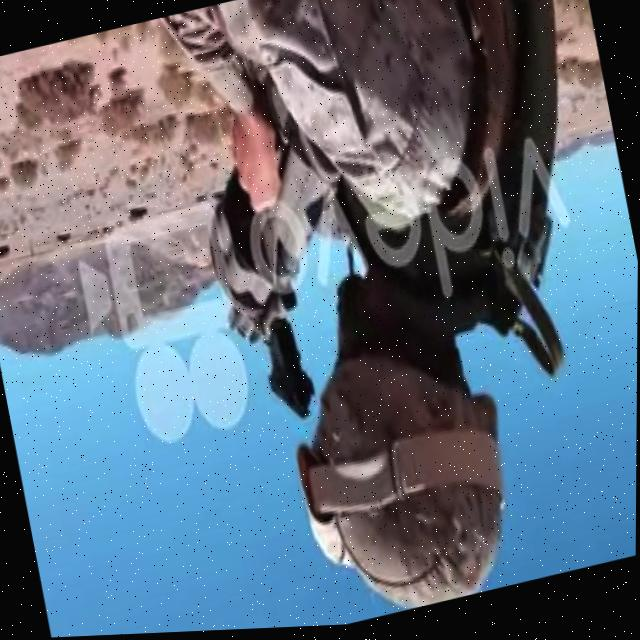rocket: (189, 101, 383, 425)
